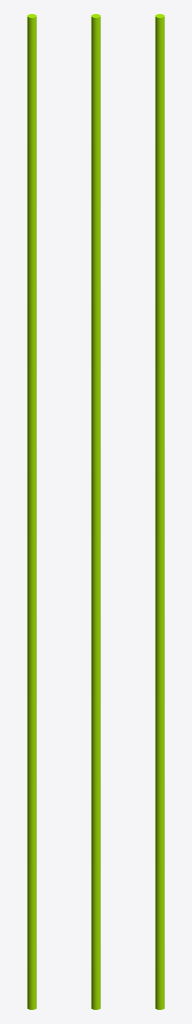
File: rope.FBX
3 renders of one model, left to right at view 1: azimuth 90°, elevation 25°; view 2: azimuth 210°, elevation 25°; view 3: azimuth 270°, elevation 25°, orthographic.
Parts seen in each view (by area): view 1: rope, rope05, rope01, rope04, rope03, rope02; view 2: rope, rope05, rope01, rope04, rope03, rope02; view 3: rope, rope05, rope01, rope04, rope03, rope02.
Part boxes in pixels (x1=…): rope: x1=27, y1=14, x2=36, y2=183; rope05: x1=27, y1=843, x2=36, y2=1009; rope01: x1=27, y1=678, x2=36, y2=844; rope04: x1=27, y1=347, x2=36, y2=513; rope03: x1=27, y1=182, x2=36, y2=348; rope02: x1=27, y1=513, x2=36, y2=679; rope: x1=91, y1=14, x2=100, y2=183; rope05: x1=91, y1=843, x2=100, y2=1009; rope01: x1=91, y1=678, x2=100, y2=844; rope04: x1=91, y1=347, x2=100, y2=513; rope03: x1=91, y1=182, x2=100, y2=348; rope02: x1=91, y1=513, x2=100, y2=679; rope: x1=155, y1=14, x2=164, y2=183; rope05: x1=155, y1=843, x2=164, y2=1009; rope01: x1=155, y1=678, x2=164, y2=844; rope04: x1=155, y1=347, x2=164, y2=513; rope03: x1=155, y1=182, x2=164, y2=348; rope02: x1=155, y1=513, x2=164, y2=679.
Size of the model in its own units: 17.02 by 1969 by 16.77.
